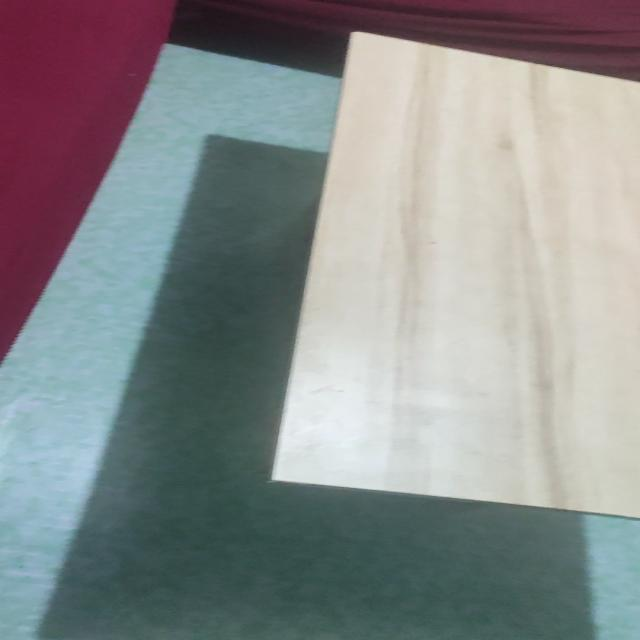table: (276, 29, 640, 546)
